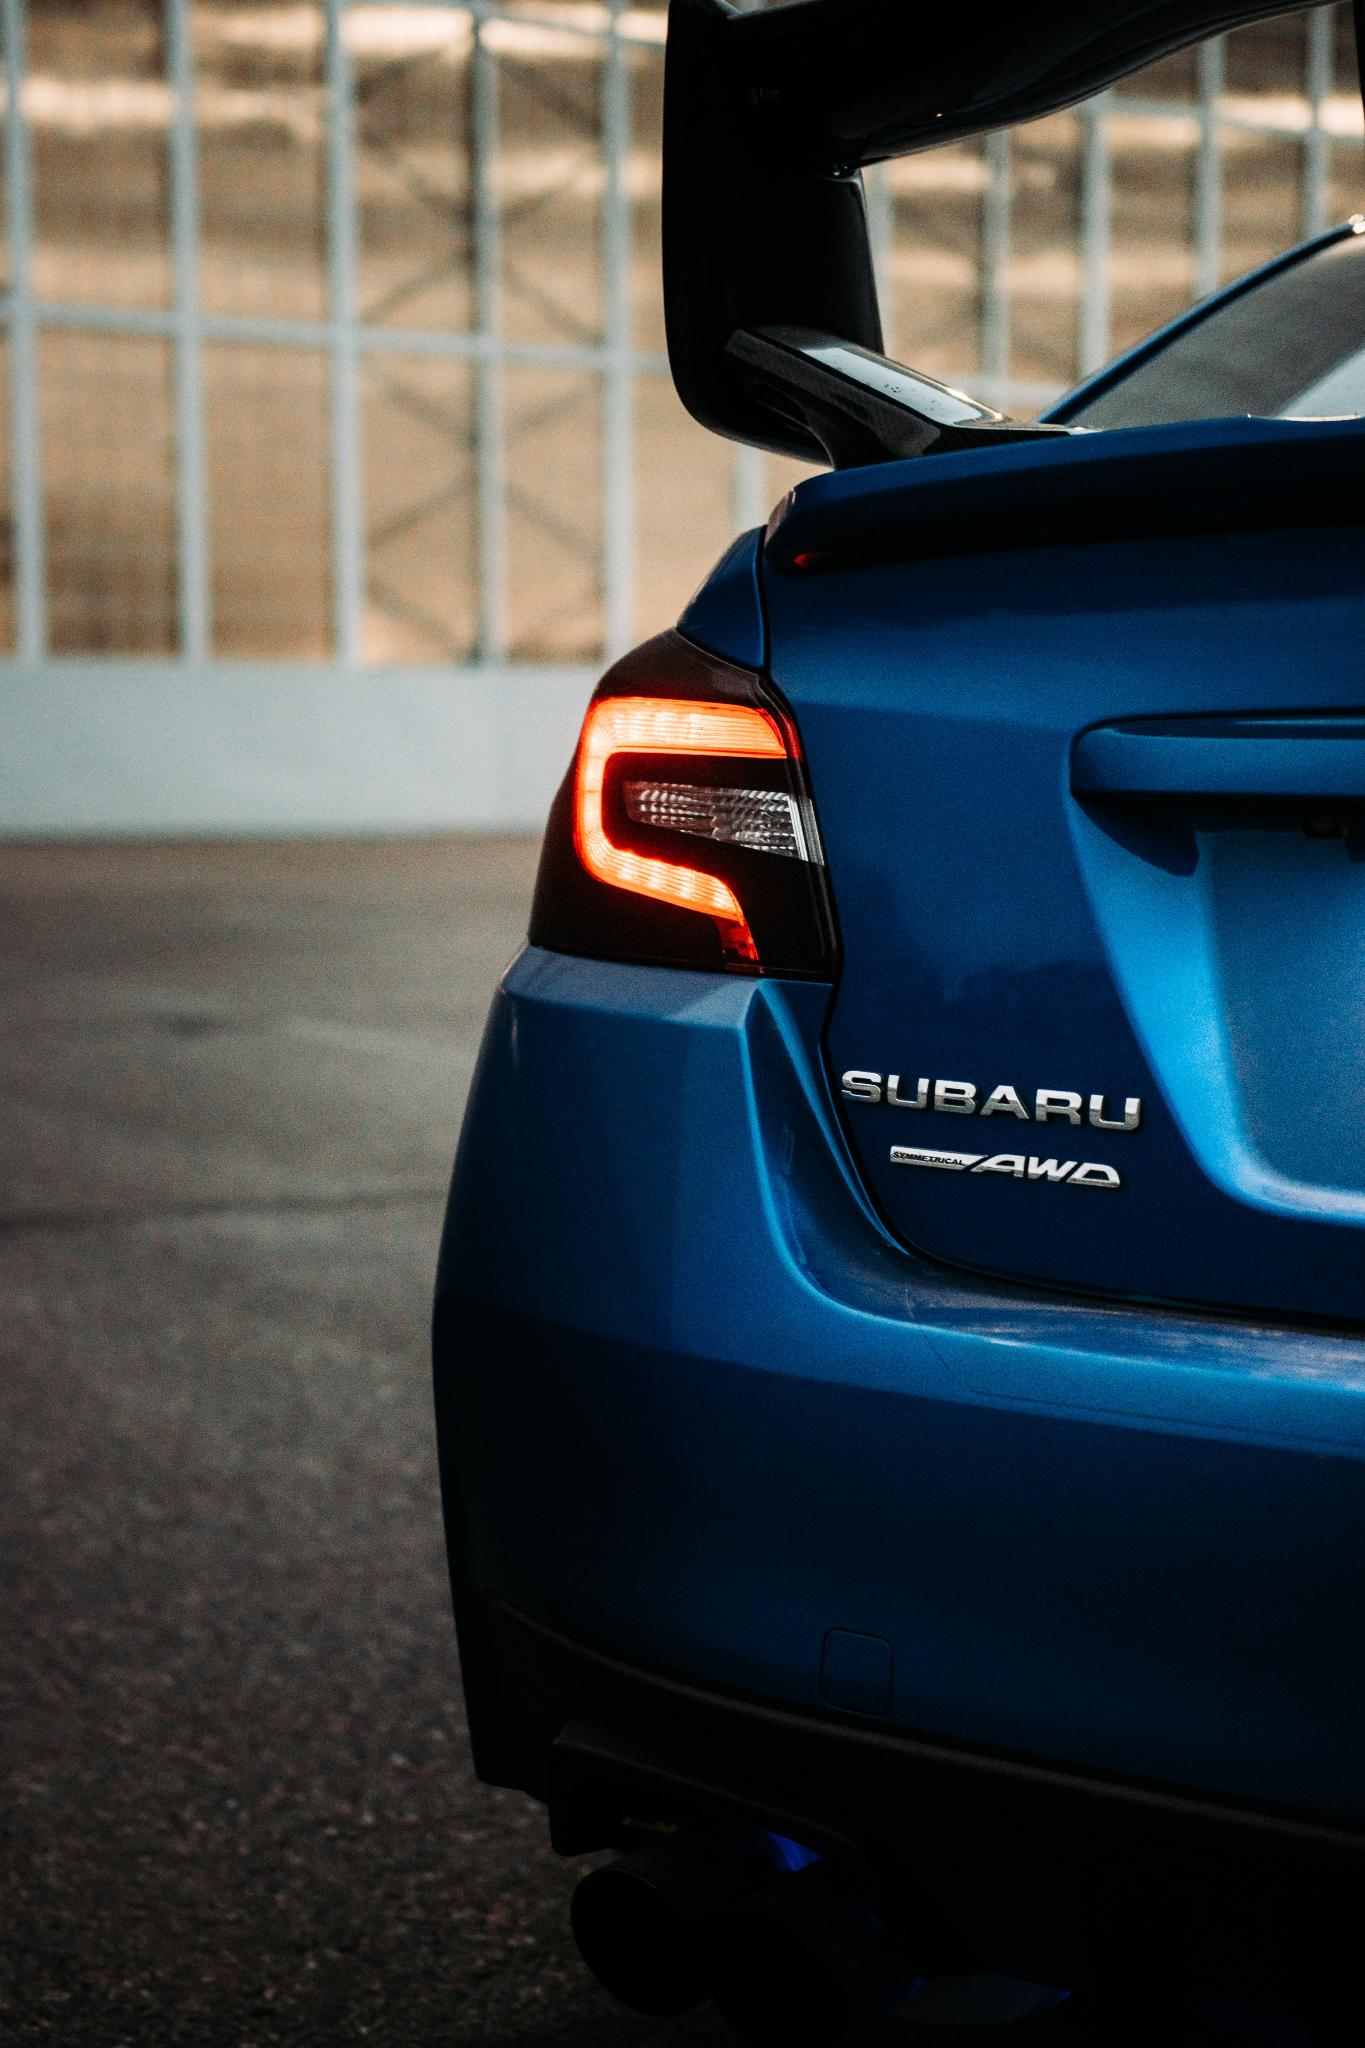subaru: (810, 1031, 1158, 1139)
